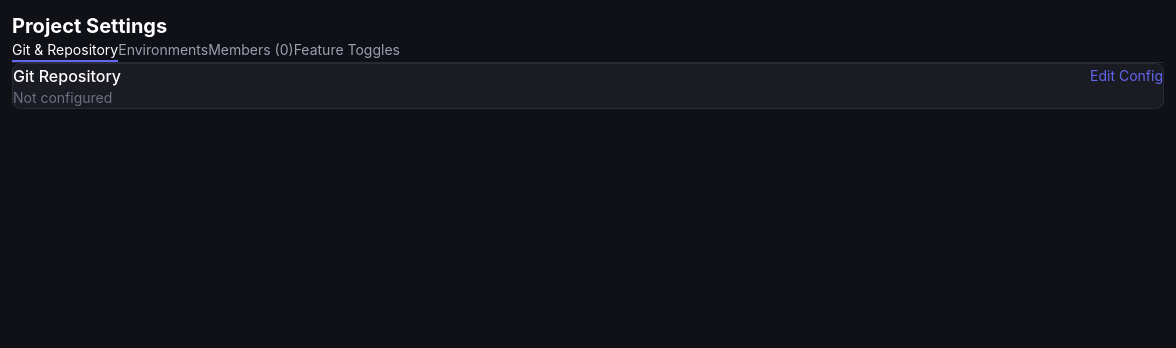
Test case: SettingsPage › toggles from read-only to edit and back on Cancel
What coordinates should you click on to do the following:
click the button "Edit Config"
I would click on:
 (1126, 76)
Its box is x1=1090 y1=66 x2=1163 y2=86.
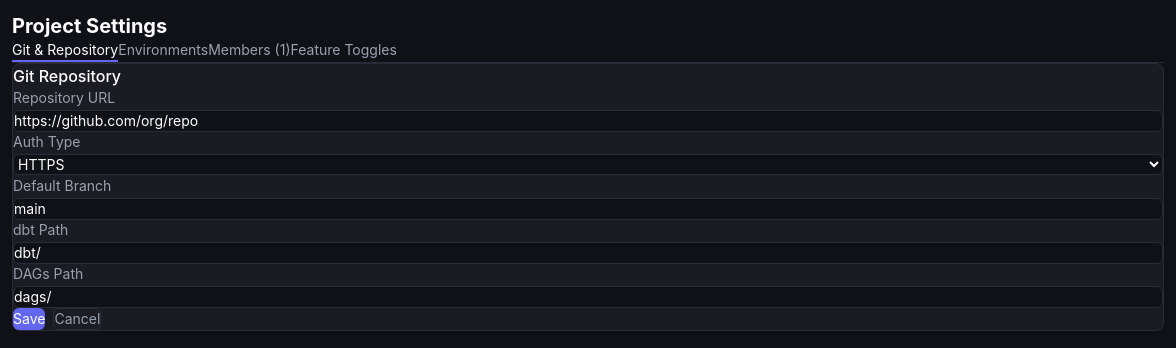
Expected: the button "Save" is shown, x1=13 y1=308 x2=45 y2=330
What coordinates should you click on to do the following:
click the button "Cancel"
I would click on:
 (77, 319)
Its box is x1=53 y1=308 x2=101 y2=330.
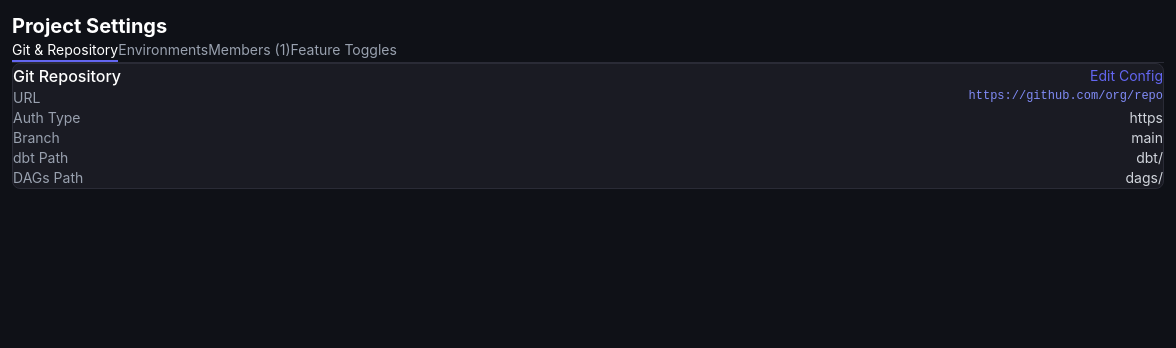
Expected: the button "Edit Config" is shown, x1=1090 y1=66 x2=1163 y2=86
